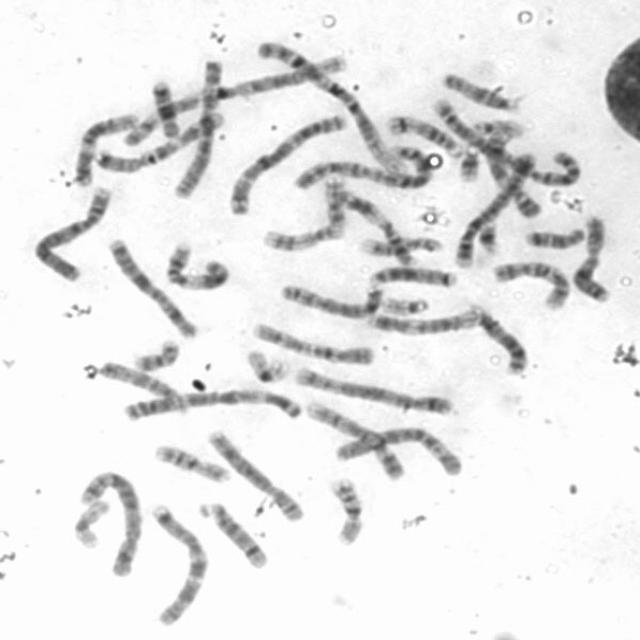A1: (120, 51, 348, 148), (253, 37, 406, 175)
A2: (429, 93, 584, 191), (288, 144, 434, 193)
A3: (223, 110, 348, 217), (117, 385, 305, 424)
B4: (450, 146, 538, 269), (28, 181, 112, 284)
B5: (292, 362, 458, 417), (73, 466, 144, 580)
C10: (248, 318, 376, 367), (489, 257, 570, 312)
C11: (339, 188, 417, 268), (162, 238, 230, 292)
C12: (69, 109, 138, 188), (363, 305, 477, 337)
C6: (168, 59, 224, 201), (331, 422, 464, 477)
C7: (89, 109, 225, 174), (147, 500, 211, 628)
C8: (204, 426, 306, 524), (277, 280, 383, 320)
C9: (299, 397, 405, 484), (482, 122, 542, 219)
D13: (470, 302, 530, 378), (364, 263, 459, 289)
D14: (195, 499, 269, 570), (384, 112, 464, 158)
D15: (96, 358, 182, 405), (440, 69, 521, 113)
E16: (149, 440, 232, 484), (324, 474, 366, 545)
E17: (258, 218, 346, 253), (360, 235, 443, 259)
E18: (148, 78, 181, 139), (522, 224, 586, 250)
F19: (68, 495, 112, 550), (242, 345, 292, 384)
F20: (130, 337, 182, 372), (322, 174, 350, 228)
G21: (454, 145, 482, 184), (475, 218, 503, 256)
G22: (468, 115, 526, 138), (378, 292, 431, 317)
X: (104, 236, 198, 340), (570, 216, 614, 304)
